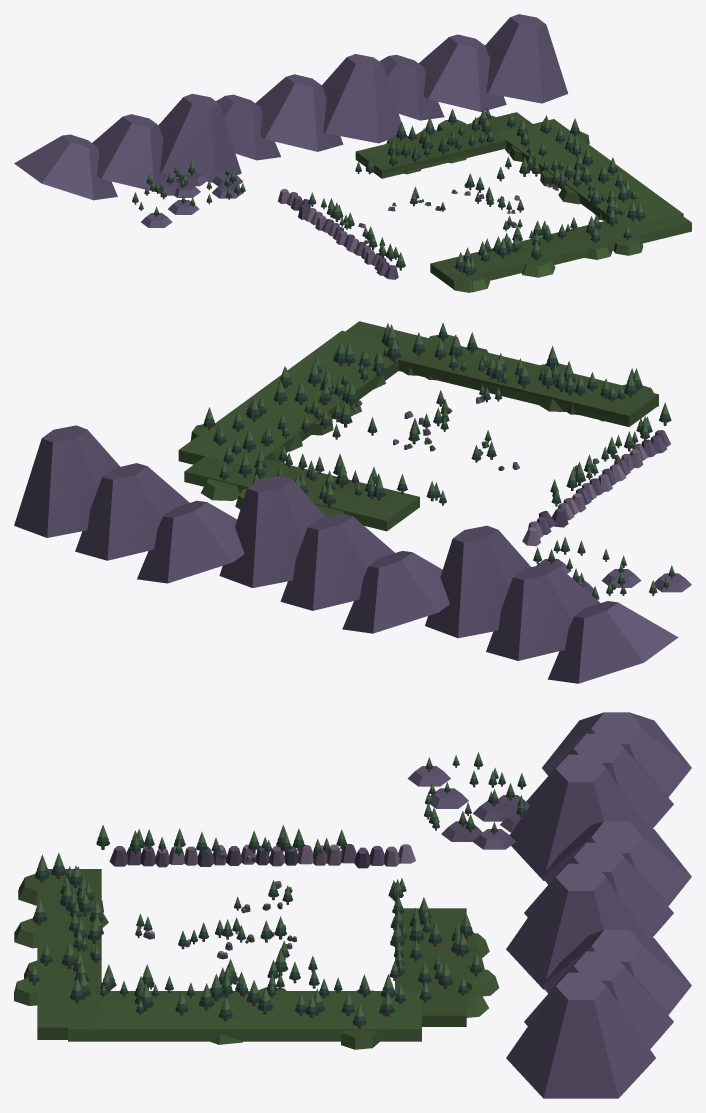
Rendered from landscape.glb.
3 renders of one model, top to bottom at view 1: azimuth 30°, elevation 25°; view 2: azimuth 150°, elevation 25°; view 3: azimuth 270°, elevation 25°, orthographic. The views are drawn at different scales.
Visible parts, largest first — view 1: landscape; view 2: landscape; view 3: landscape.
Part boxes in pixels (left/top/right/bottom): landscape: left=14, top=14, right=691, bottom=292; landscape: left=14, top=321, right=691, bottom=683; landscape: left=14, top=712, right=691, bottom=1098.
Bounding box in the file's own units: 227 × 33.19 × 190.
